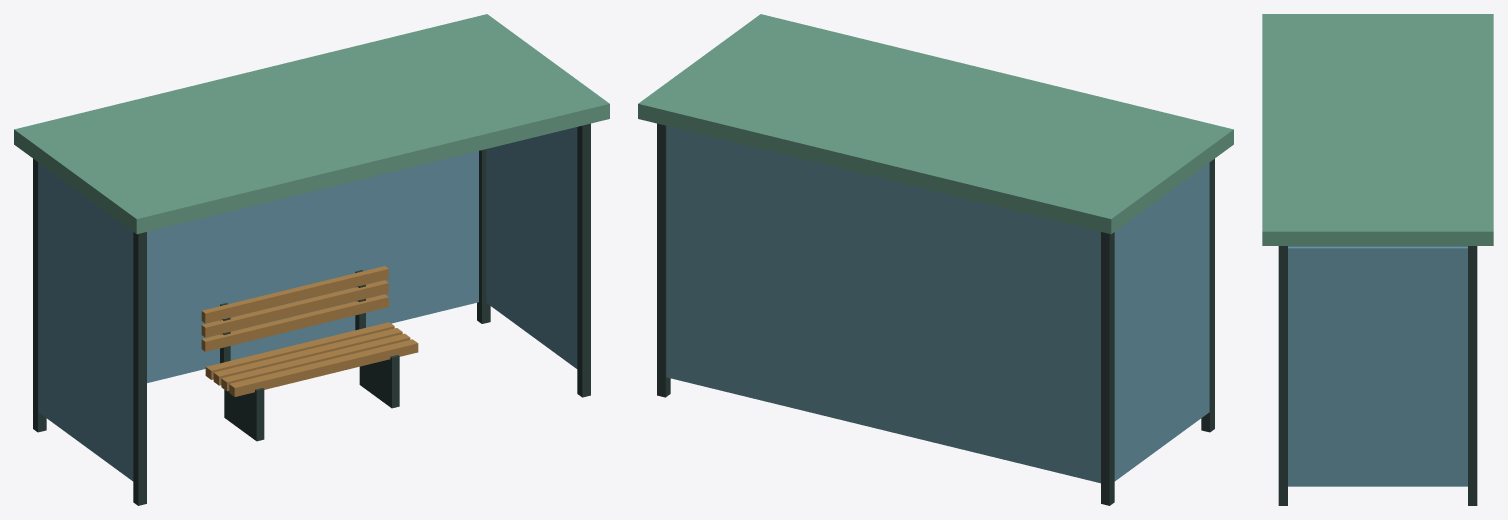
File: BusStop.obj
3 views of the same model, side by side, from view 1: azimuth 30°, elevation 25°; view 2: azimuth 150°, elevation 25°; view 3: azimuth 270°, elevation 25° (orthographic). The views are drawn at different scales.
Parts seen in each view (by area): view 1: BusStop; view 2: BusStop; view 3: BusStop.
Boxes of the visible parts, x1,y1,x2,y2 form: BusStop: [14, 14, 609, 505]; BusStop: [638, 14, 1233, 505]; BusStop: [1262, 14, 1493, 505].
Size of the model in its own units: 4.9 by 2.92 by 2.2.
